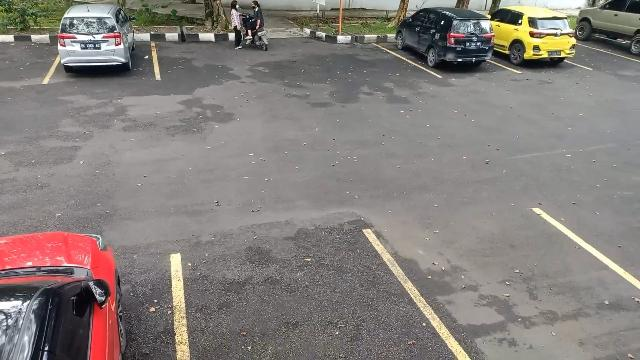empty: (175, 226, 415, 360), (410, 219, 628, 360)
occupied: (40, 7, 158, 84), (396, 13, 496, 79), (497, 7, 583, 74)
